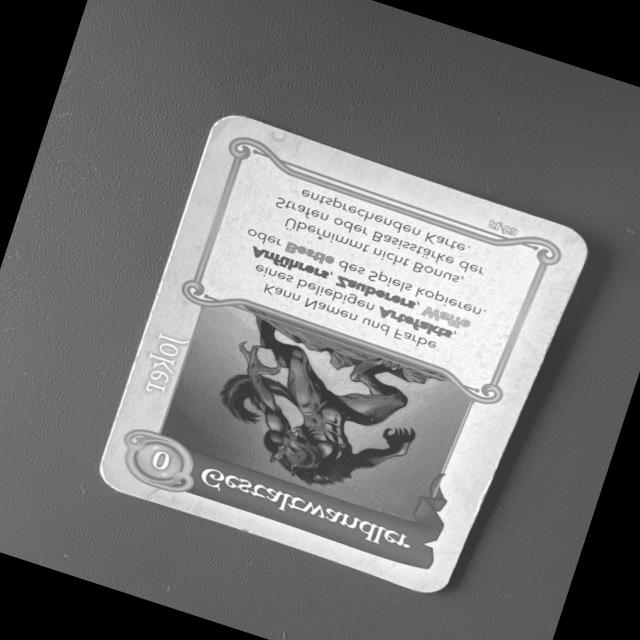Shapeshifter: (86, 101, 600, 607)
